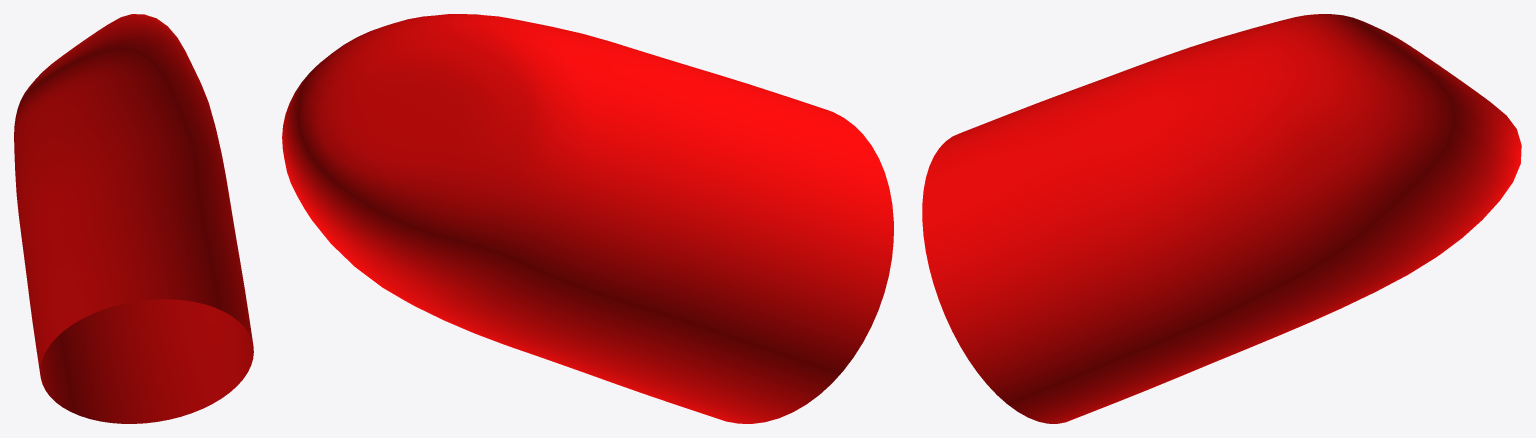
Rendered from lipstick.obj.
3 views of the same model, side by side, from view 1: azimuth 30°, elevation 25°; view 2: azimuth 150°, elevation 25°; view 3: azimuth 270°, elevation 25° (orthographic). The views are drawn at different scales.
Parts seen in each view (by area): view 1: dynamic; view 2: dynamic; view 3: dynamic.
Boxes of the visible parts, x1,y1,x2,y2 form: dynamic: (14, 14, 253, 423); dynamic: (282, 14, 893, 423); dynamic: (922, 14, 1521, 423).
Bounding box in the file's own units: 27.75 × 31.31 × 39.15.
1 material, 1 textured.
